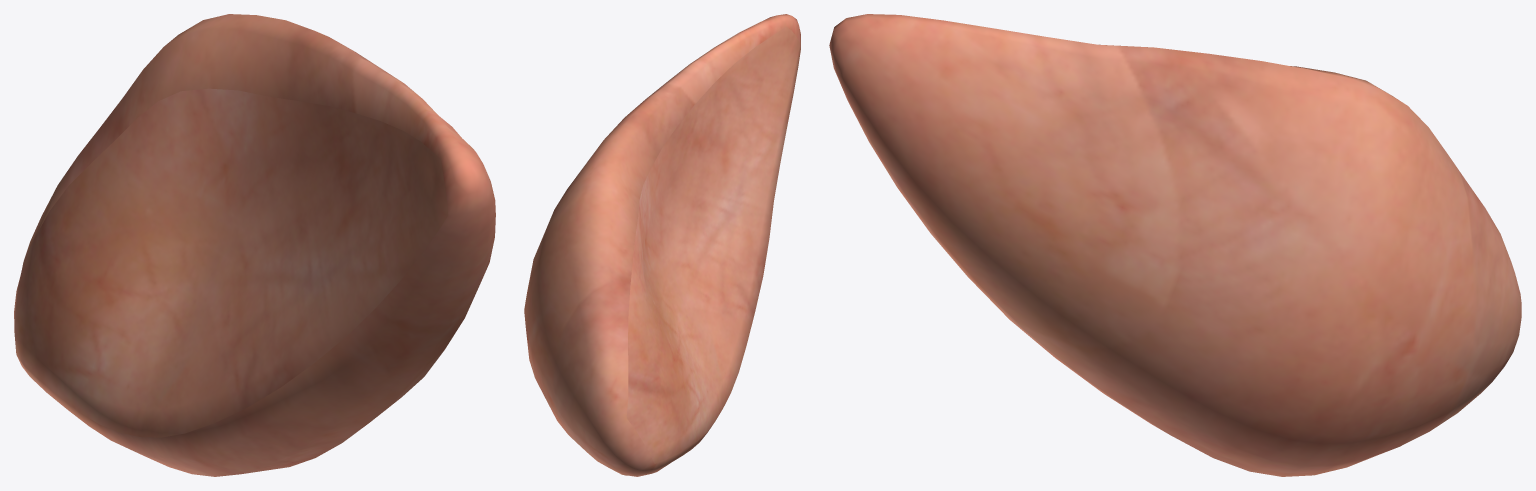
File: L_Substantia_Nigra01.fbx
3 renders of one model, left to right at view 1: azimuth 30°, elevation 25°; view 2: azimuth 150°, elevation 25°; view 3: azimuth 270°, elevation 25°, orthographic. The views are drawn at different scales.
Parts seen in each view (by area): view 1: L_Substantia_Nigra01; view 2: L_Substantia_Nigra01; view 3: L_Substantia_Nigra01.
Boxes of the visible parts, left/top/right/bottom form: L_Substantia_Nigra01: left=14, top=14, right=495, bottom=476; L_Substantia_Nigra01: left=524, top=14, right=800, bottom=476; L_Substantia_Nigra01: left=829, top=14, right=1521, bottom=476.
Bounding box in the file's own units: 0.5856 × 0.9979 × 1.36.
1 material, 1 textured.
